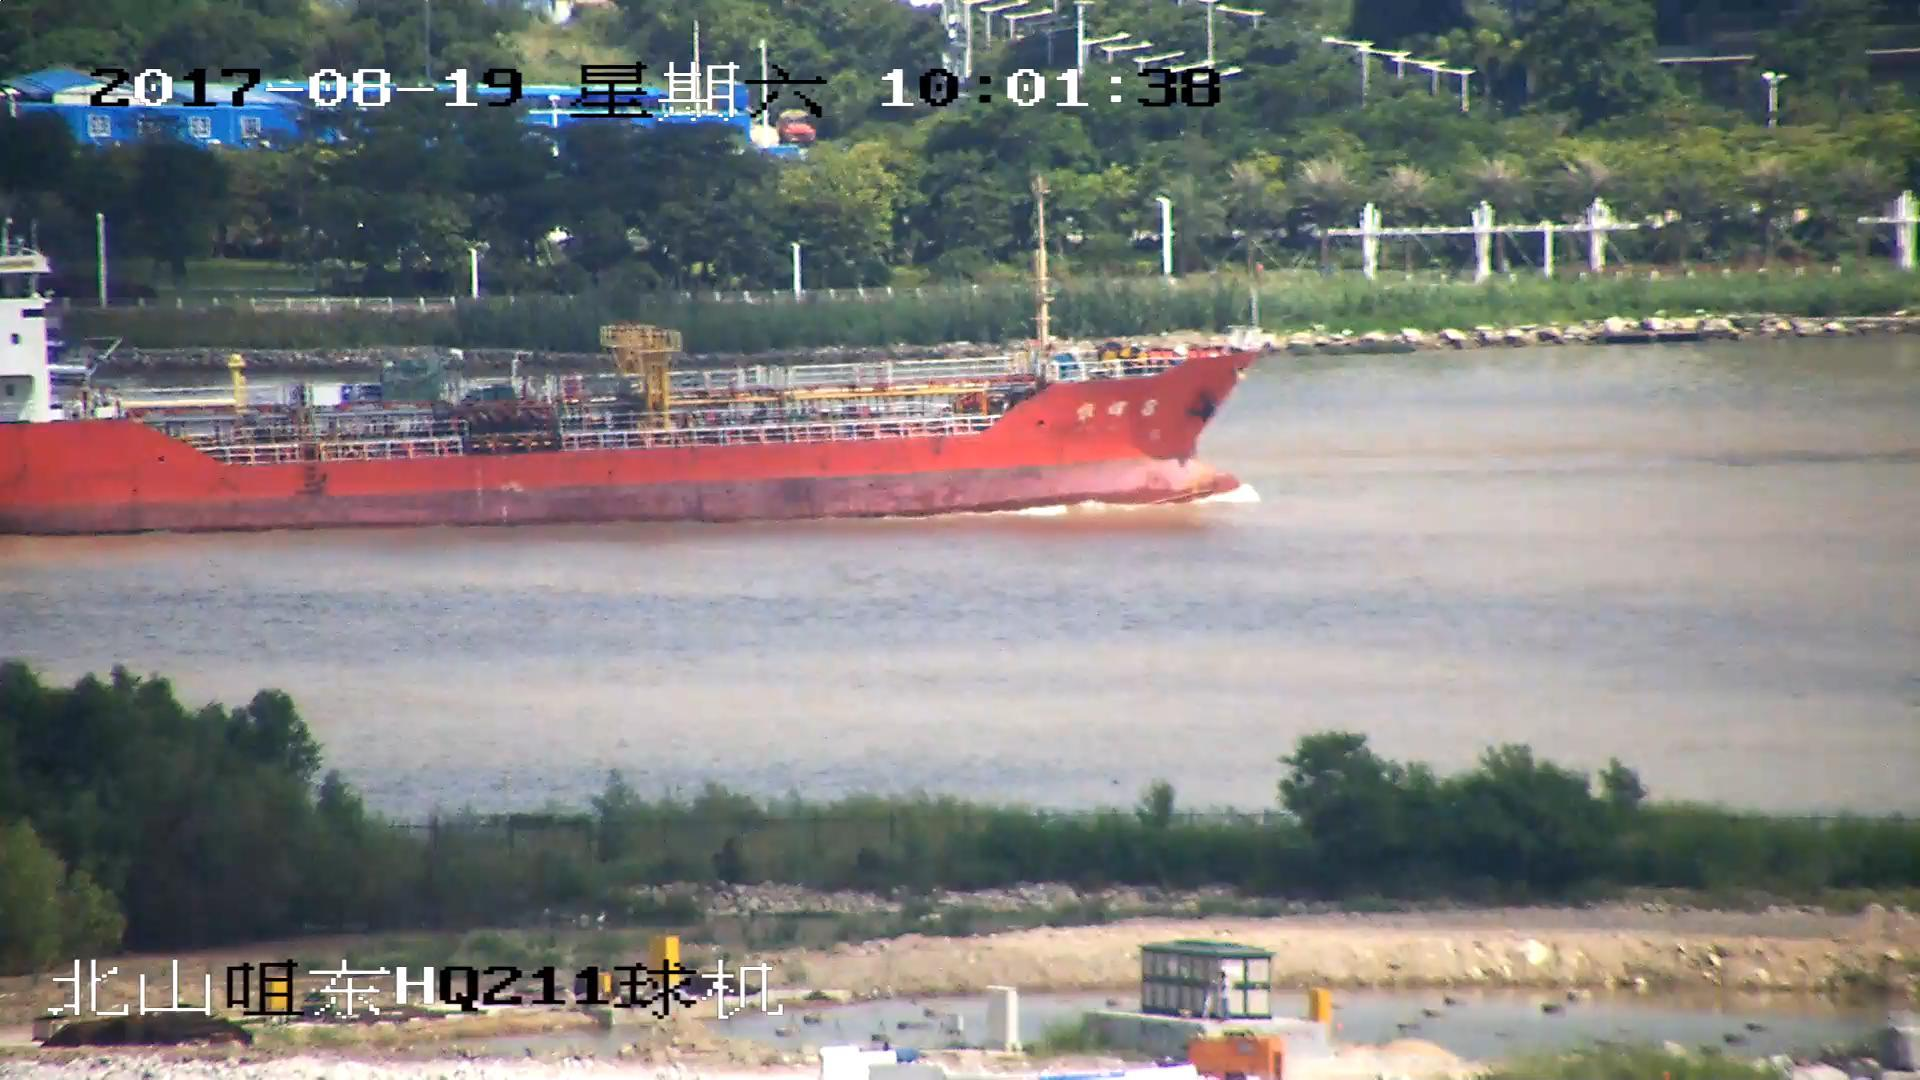Ship: (3, 243, 1245, 521)
